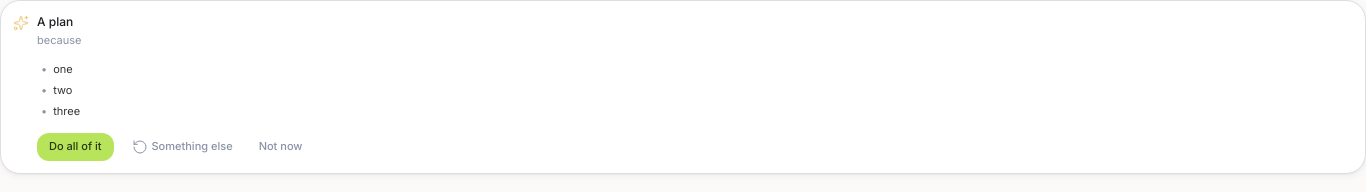
dropping individual lines › is a toggle — a line put back comes back
Later steps or results of the test are not shown.
Click the button with test id "proposal-line" showing "• one": click(44, 69) [37, 60, 1353, 79]
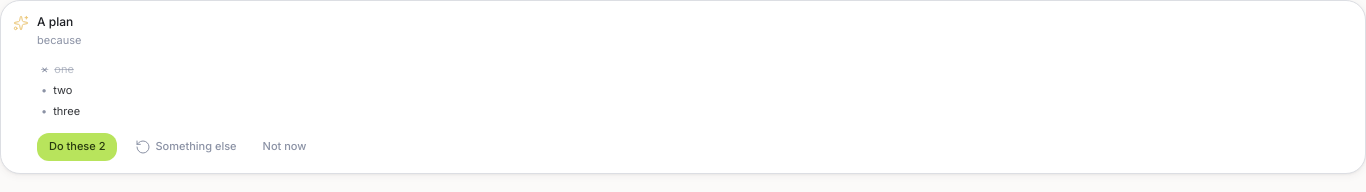
Now the button with test id "proposal-line" is not pressed
Click the button with test id "proposal-line": click(45, 69) [37, 60, 1353, 79]
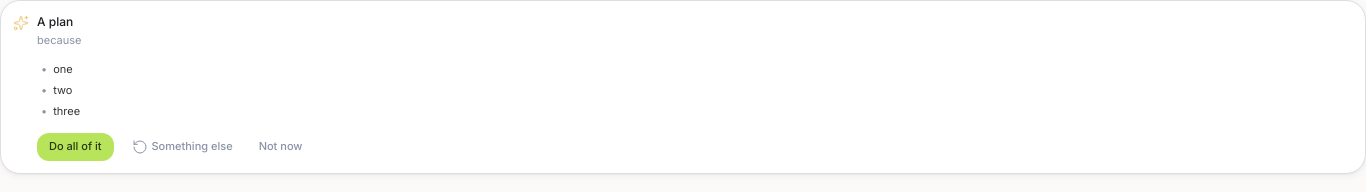
Now the button with test id "proposal-line" is pressed, box [37, 60, 1353, 79]
